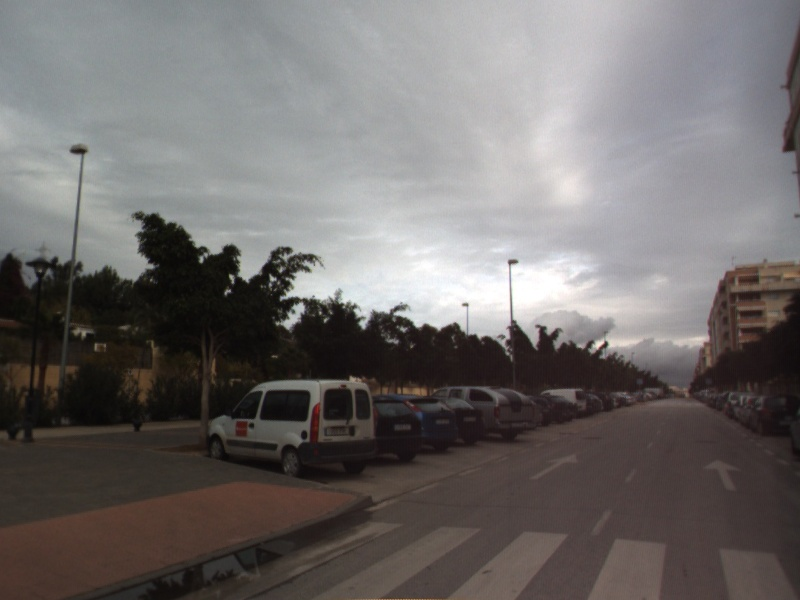STRAIGHT: (527, 451, 580, 481), (701, 457, 744, 493)
